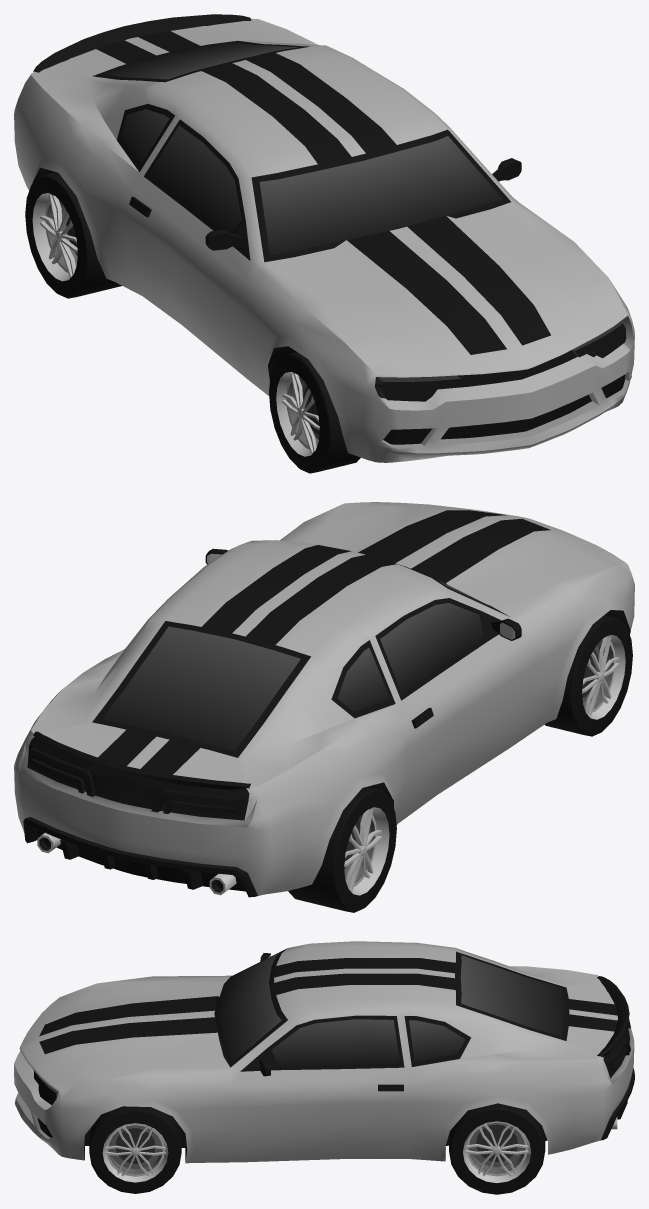
Rendered from PaoChe00_2.fbx.
3 views of the same model, one above another, from view 1: azimuth 30°, elevation 25°; view 2: azimuth 150°, elevation 25°; view 3: azimuth 270°, elevation 25° (orthographic). The views are drawn at different scales.
Parts seen in each view (by area): view 1: PaoChe00_2; view 2: PaoChe00_2; view 3: PaoChe00_2.
Part boxes in pixels (x1=…): PaoChe00_2: x1=14, y1=14, x2=634, y2=473; PaoChe00_2: x1=14, y1=502, x2=634, y2=912; PaoChe00_2: x1=14, y1=941, x2=634, y2=1194.
Size of the model in its own units: 306 by 207 by 696.
